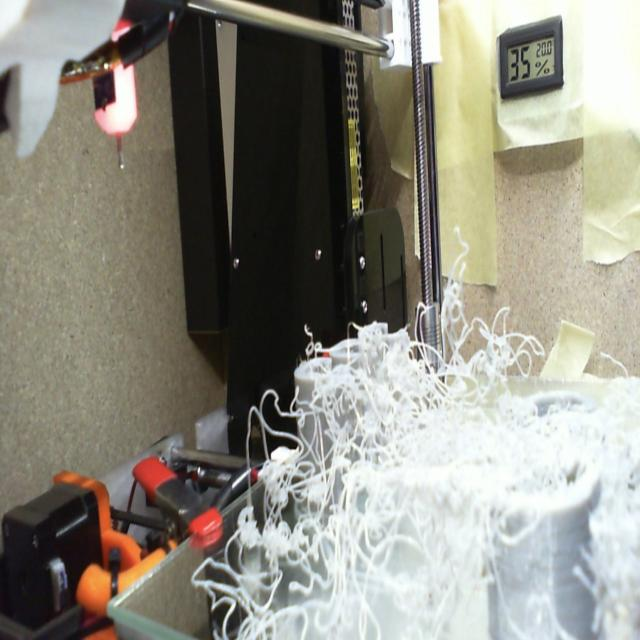spaghetti: (345, 355, 530, 561), (221, 456, 326, 614), (431, 248, 478, 350), (300, 364, 343, 450)
